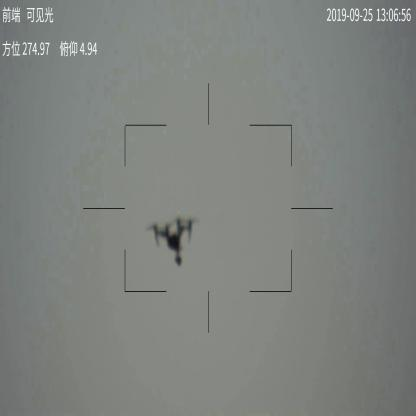uav: (149, 213, 193, 269)
